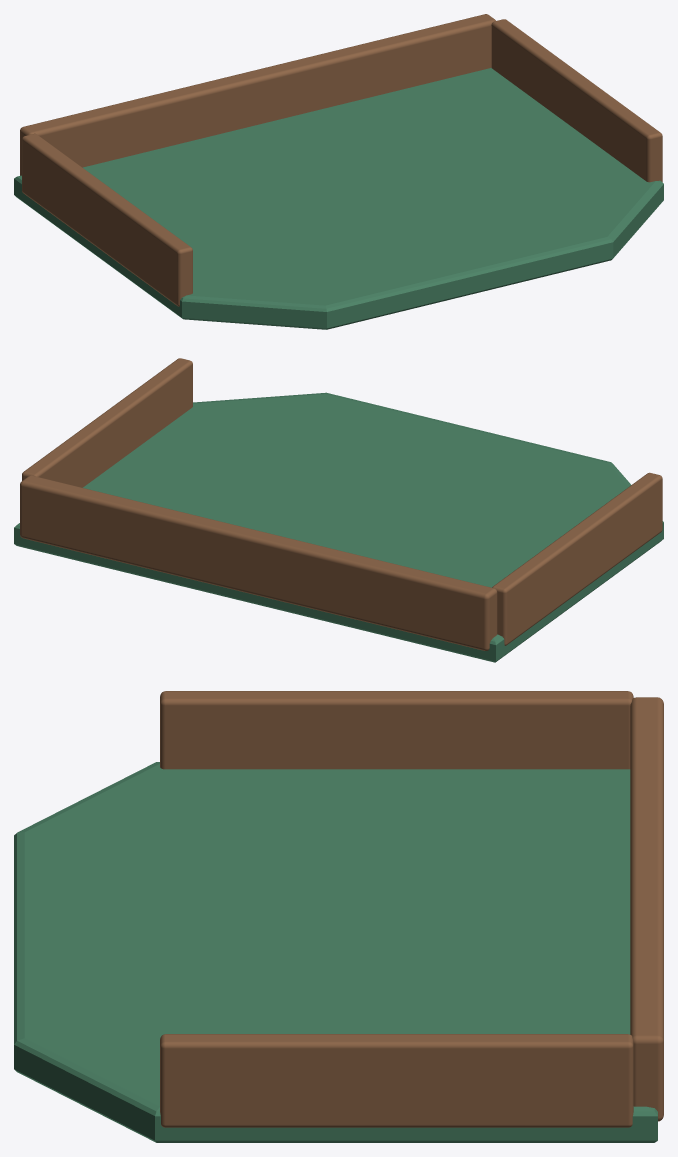
File: clockmaker-and-watch-repair-bench-cutout-tray-b8453d48__30596.glb
The picture shows the model from 3 angles, top to bottom: view 1: azimuth 30°, elevation 25°; view 2: azimuth 150°, elevation 25°; view 3: azimuth 270°, elevation 25°; orthographic projection. The views are drawn at different scales.
Parts seen in each view (by area): view 1: bench-cutout-tray; view 2: bench-cutout-tray; view 3: bench-cutout-tray.
Part boxes in pixels (box(x1,y1,x2,y2)): bench-cutout-tray: box(14, 14, 663, 329); bench-cutout-tray: box(14, 358, 663, 662); bench-cutout-tray: box(14, 691, 663, 1142).
Size of the model in its own units: 0.62 by 0.084 by 0.4805.
